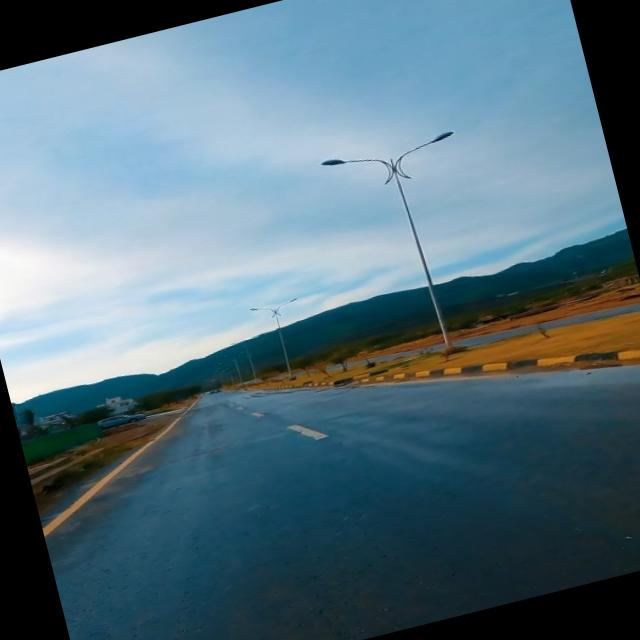asphalt: (40, 365, 640, 640)
grass: (234, 311, 640, 389), (31, 422, 158, 516)
